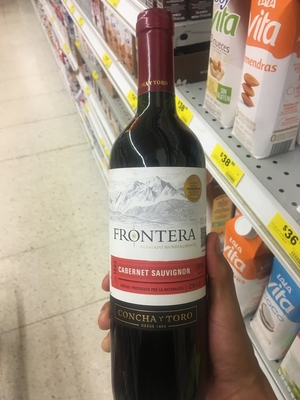frontera cabernet sauvignon: (97, 30, 223, 400)
